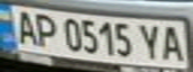0: (57, 15, 81, 53)
1: (97, 19, 118, 56)
5: (112, 19, 139, 58), (78, 17, 100, 55)
A: (157, 22, 187, 63), (9, 7, 39, 46)
P: (30, 11, 60, 48)
Y: (136, 20, 166, 61)
